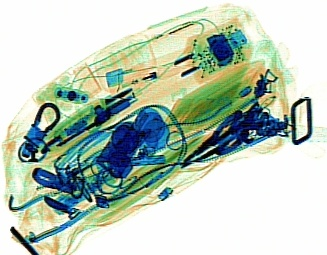lighter: (104, 45, 195, 96)
